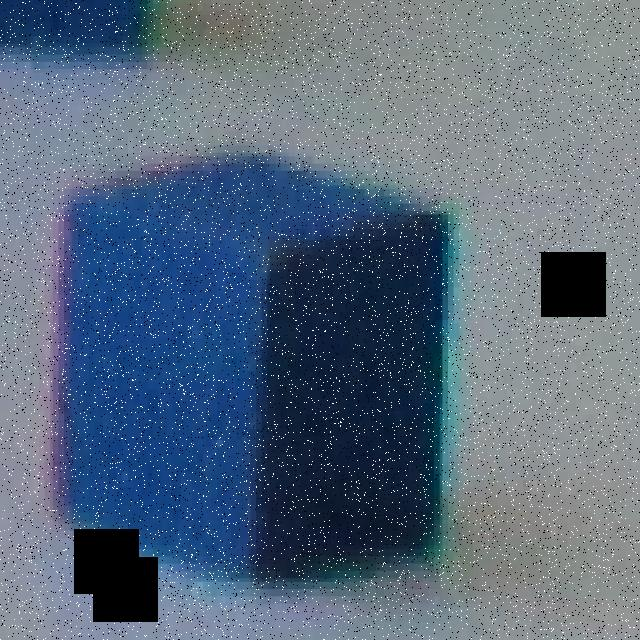bluecube: (49, 142, 453, 600)
